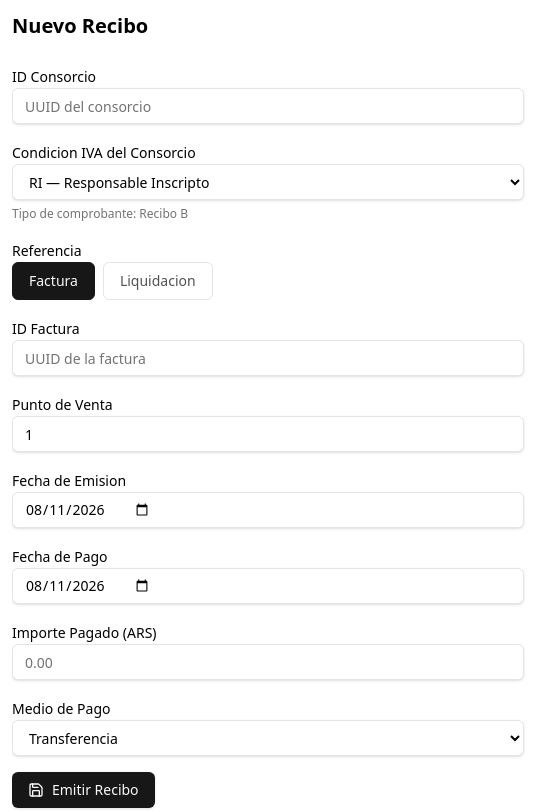
Test: ReciboForm › [@validation] shows required errors on empty submit
Click the button "Emitir Recibo": (83, 790) [12, 772, 155, 808]
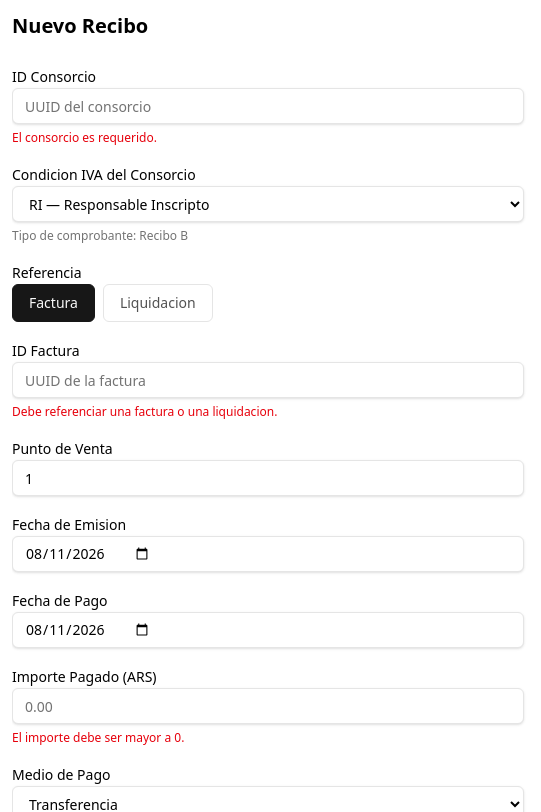
Check: the text "El consorcio es requerido." is shown, box [12, 129, 157, 146]
Check: the text "El importe debe ser mayor a 0." is shown, box [12, 729, 184, 746]
Check: the text "Debe referenciar una factura o una liquidacion." is shown, box [12, 403, 277, 420]
